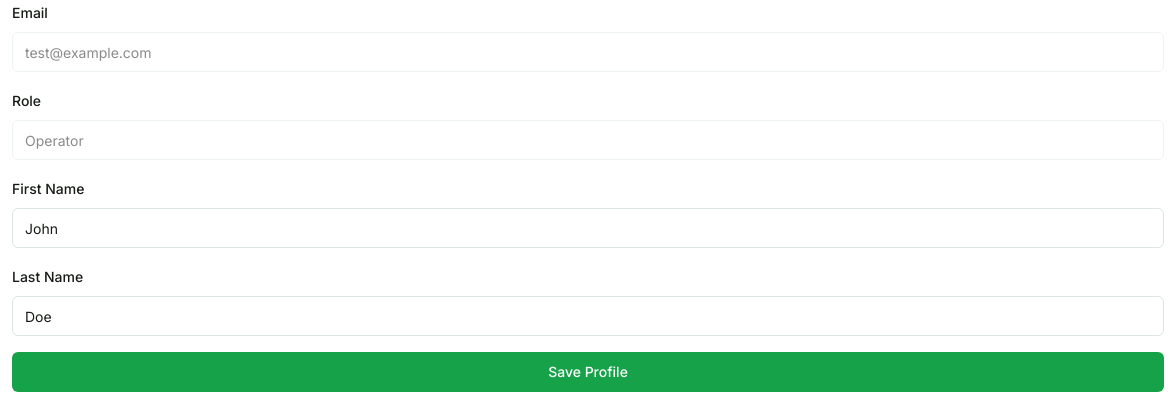
Scenario: ProfileForm › disables submit button while loading
Click the button "Save Profile" at [588, 372], box [12,352,1164,392]
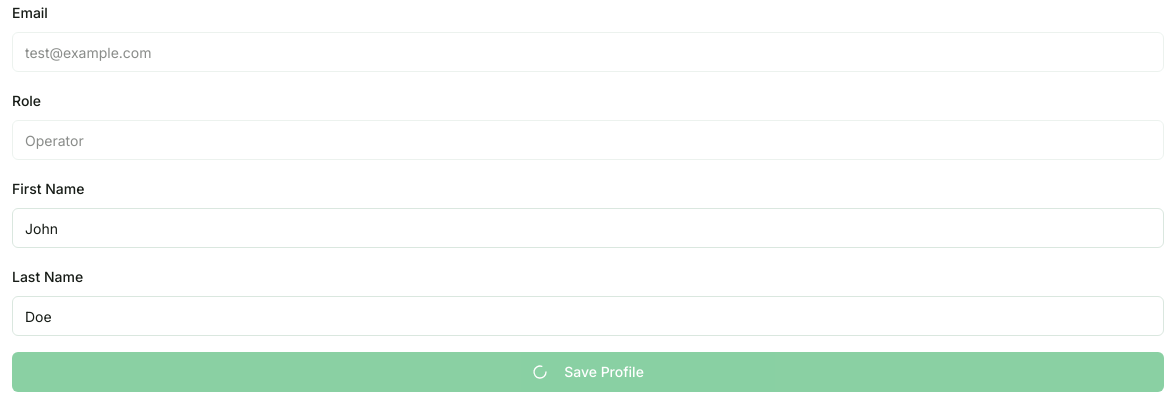
expect the button "Save Profile" is disabled: met, box [12,352,1164,392]
